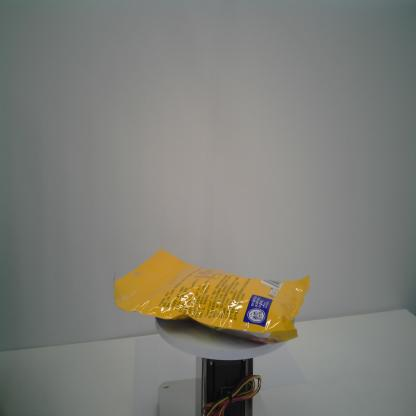Dried Fruit: (112, 249, 311, 345)
